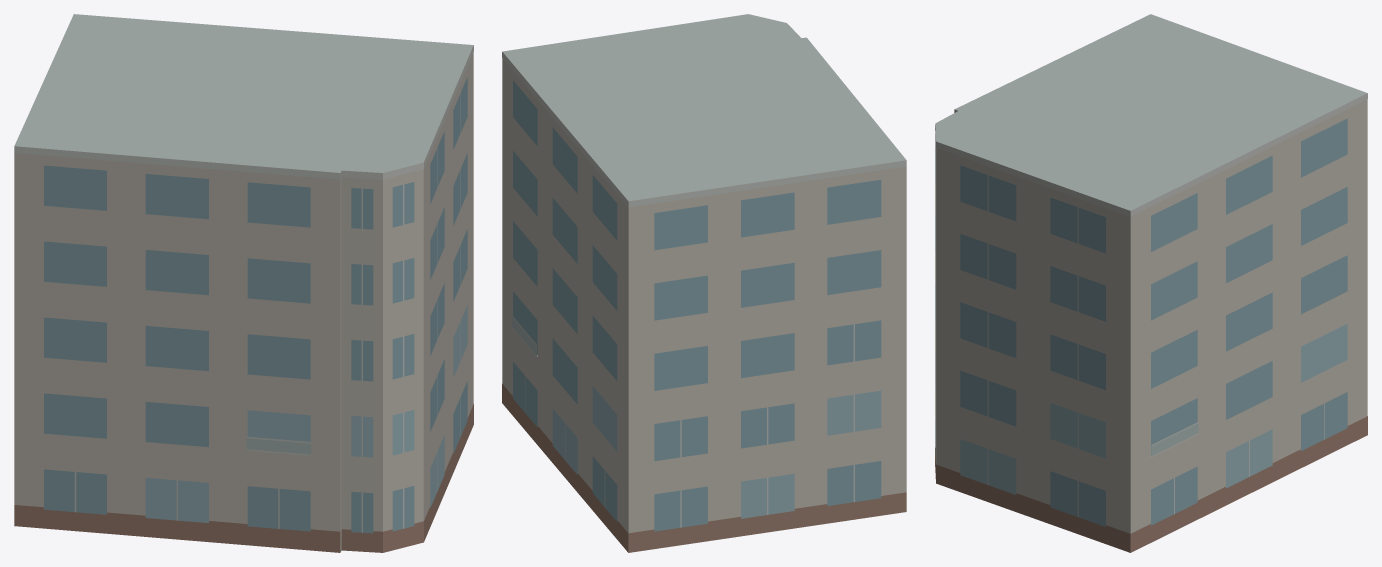
File: survey-upis-33019272.glb
The picture shows the model from 3 angles, left to right: view 1: azimuth 30°, elevation 25°; view 2: azimuth 150°, elevation 25°; view 3: azimuth 270°, elevation 25°; orthographic projection. The views are drawn at different scales.
Visible parts, largest first — view 1: survey-upis-33019272.tmp; view 2: survey-upis-33019272.tmp; view 3: survey-upis-33019272.tmp.
Part boxes in pixels (x1,y1,x2,y2): survey-upis-33019272.tmp: [14, 14, 473, 552]; survey-upis-33019272.tmp: [502, 14, 906, 552]; survey-upis-33019272.tmp: [935, 14, 1367, 552].
Bounding box in the file's own units: 17.24 × 13.95 × 16.
